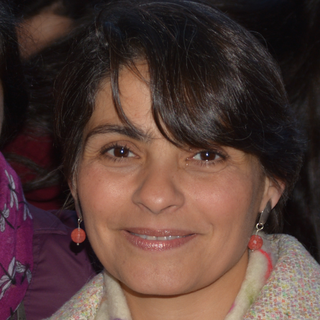eye: (96, 140, 141, 165), (188, 142, 231, 168)
